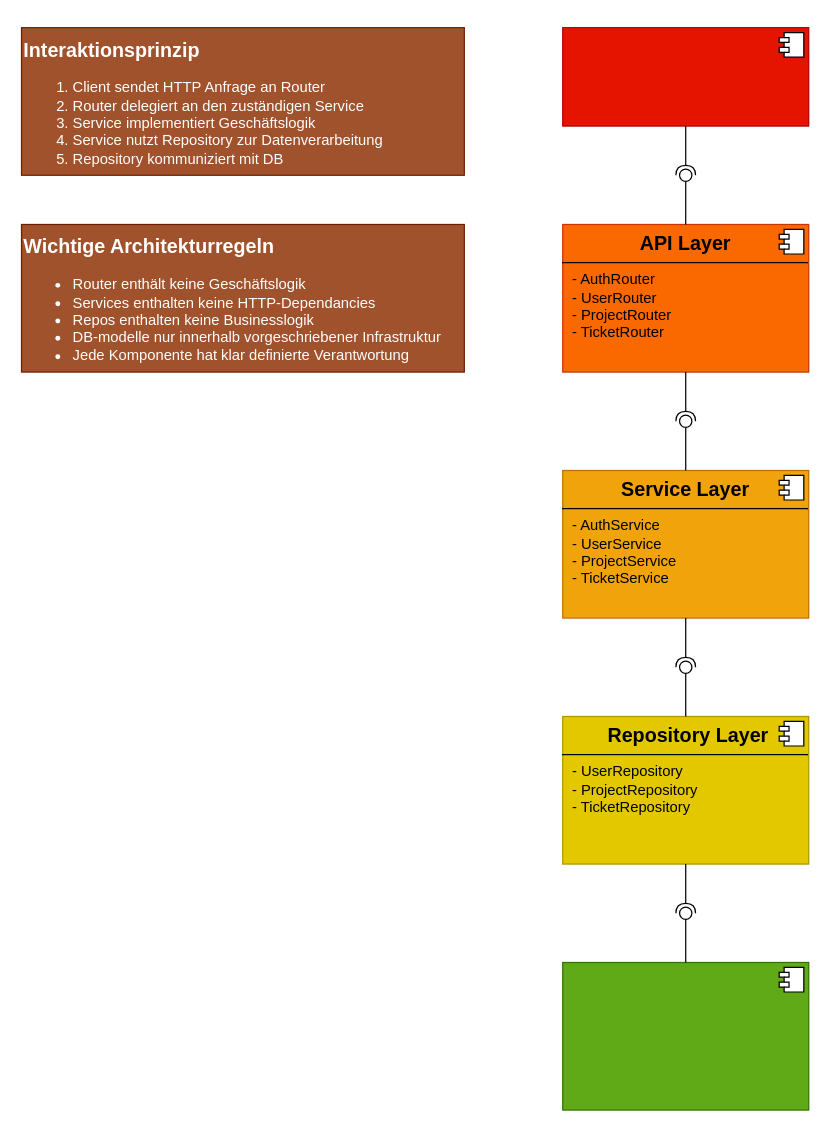
Some shapes in this 830 by 1132 pixel diagram are drawn without their labels. Each missing label, with the centre of its shape:
"Client Frontend / REST" goes at [685,76].
"DB / Infrastruktur - SQLAlchemy Models - PostgreSQL - Alembic Migrationen" goes at [685,1035].
